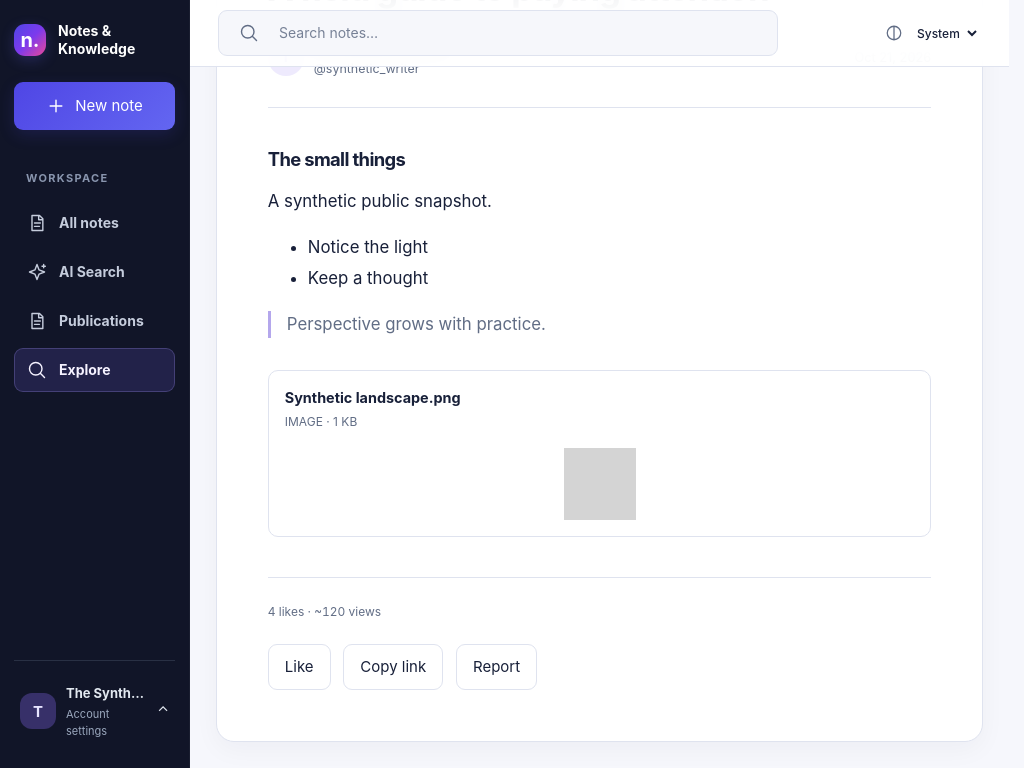
Test: public routes and boundaries › does not show failed Like as successful optimistic state
(page scrolled)
Click the button "Like". click: (299, 667)
box: [268,644,331,690]
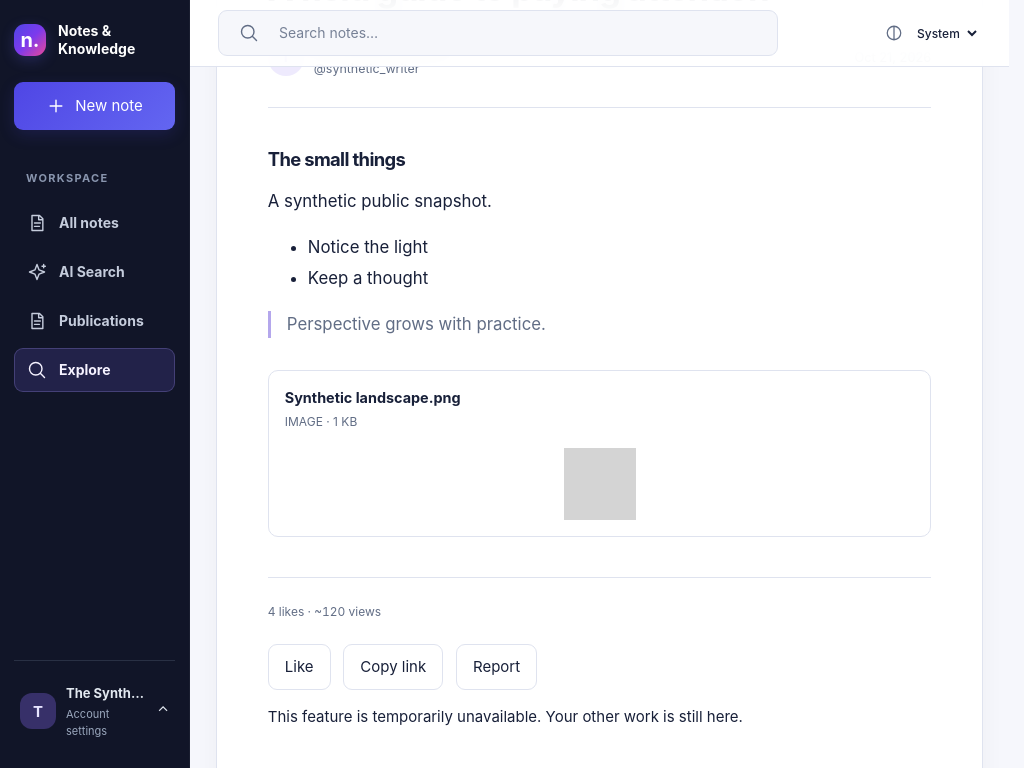
Expected: the message "This feature is temporarily unavailable. Your other work is still here." is shown, [268,707,743,726]
